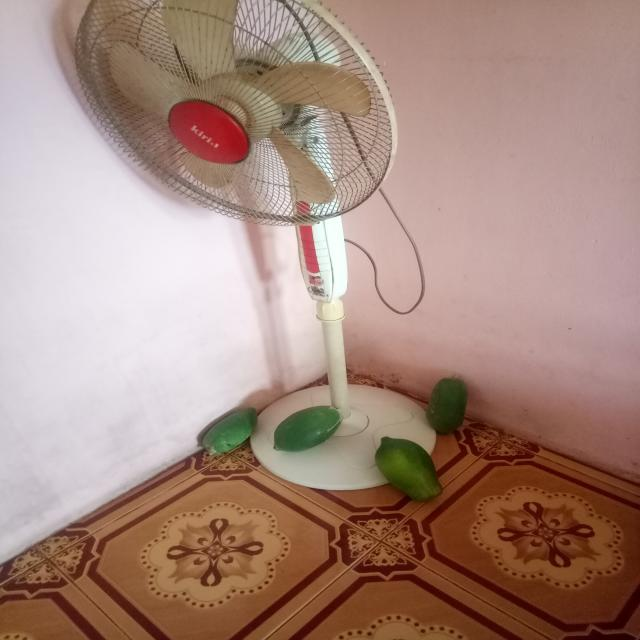Pepaya unrippen: (365, 438, 445, 507), (186, 408, 264, 463), (263, 408, 344, 454), (420, 377, 472, 435)
